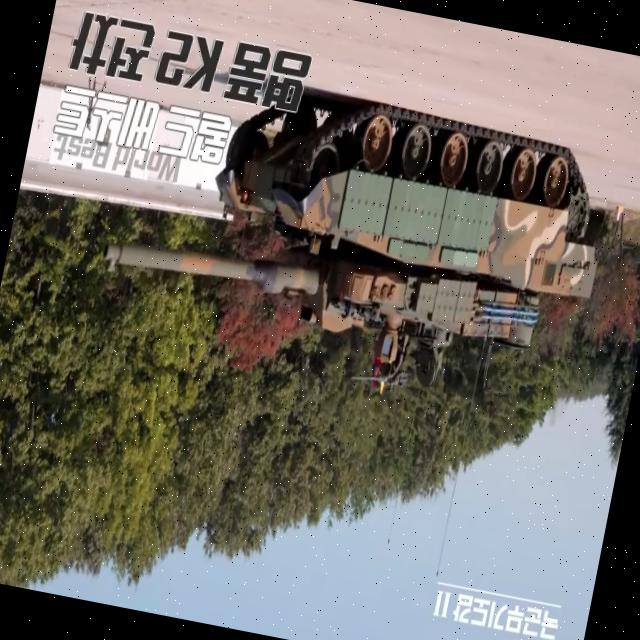korea tank: (84, 54, 620, 426)
